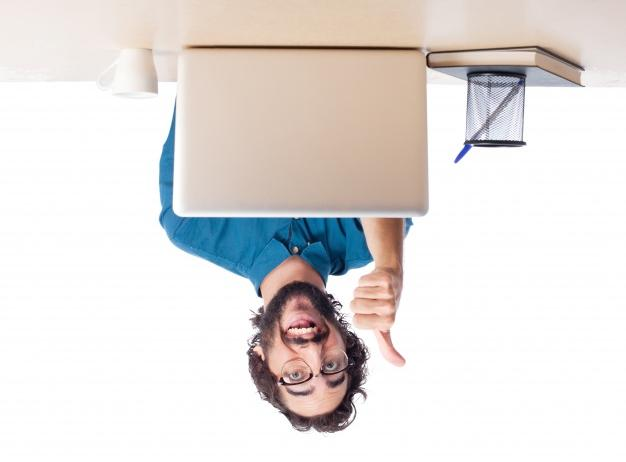thumbsdown: (350, 272, 406, 368)
